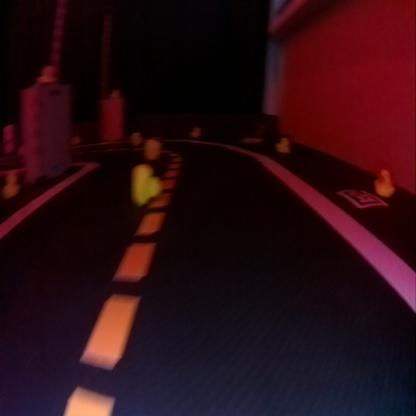Duckie: (131, 164, 160, 204), (376, 172, 394, 196), (3, 172, 19, 196), (38, 65, 56, 82), (145, 140, 160, 156), (276, 137, 290, 152), (130, 130, 140, 144), (192, 128, 200, 135)
QR code: (337, 189, 386, 208)
